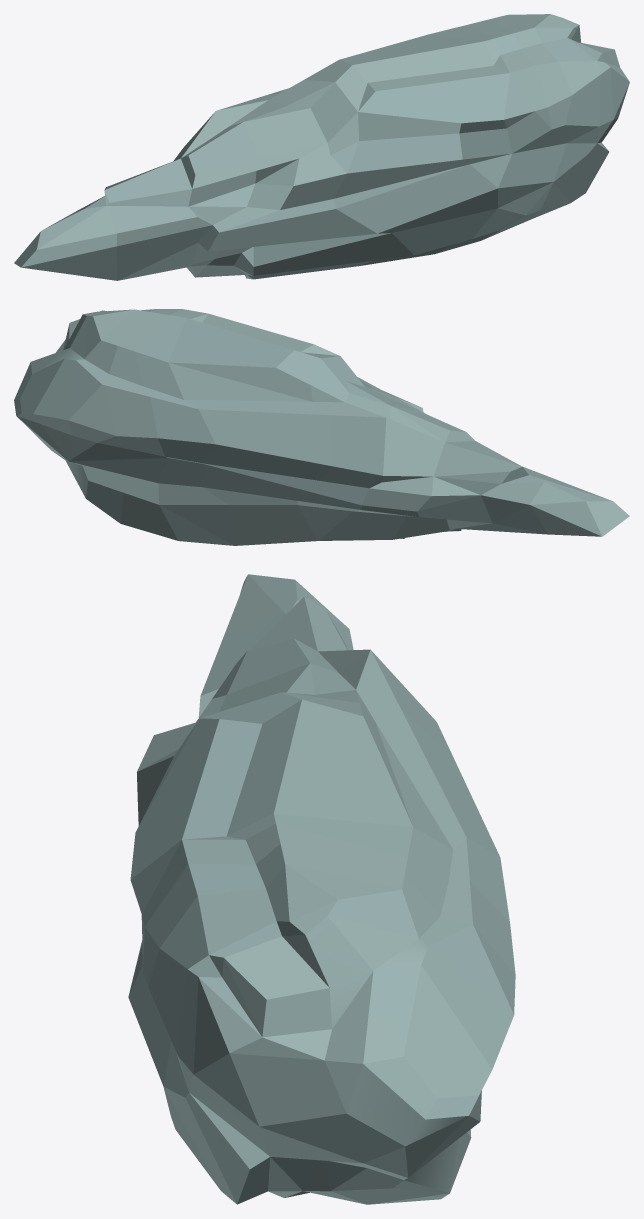
Rendered from Rock_Sharp.fbx.
3 renders of one model, top to bottom at view 1: azimuth 30°, elevation 25°; view 2: azimuth 150°, elevation 25°; view 3: azimuth 270°, elevation 25°, orthographic. The views are drawn at different scales.
Visible parts, largest first — view 1: Sharp_Pillar2566; view 2: Sharp_Pillar2566; view 3: Sharp_Pillar2566.
Part boxes in pixels (x1,y1,x2,y2): Sharp_Pillar2566: (14,14,629,280); Sharp_Pillar2566: (14,309,629,545); Sharp_Pillar2566: (128,574,515,1204).
Size of the model in its own units: 12537 by 3837 by 3644.
